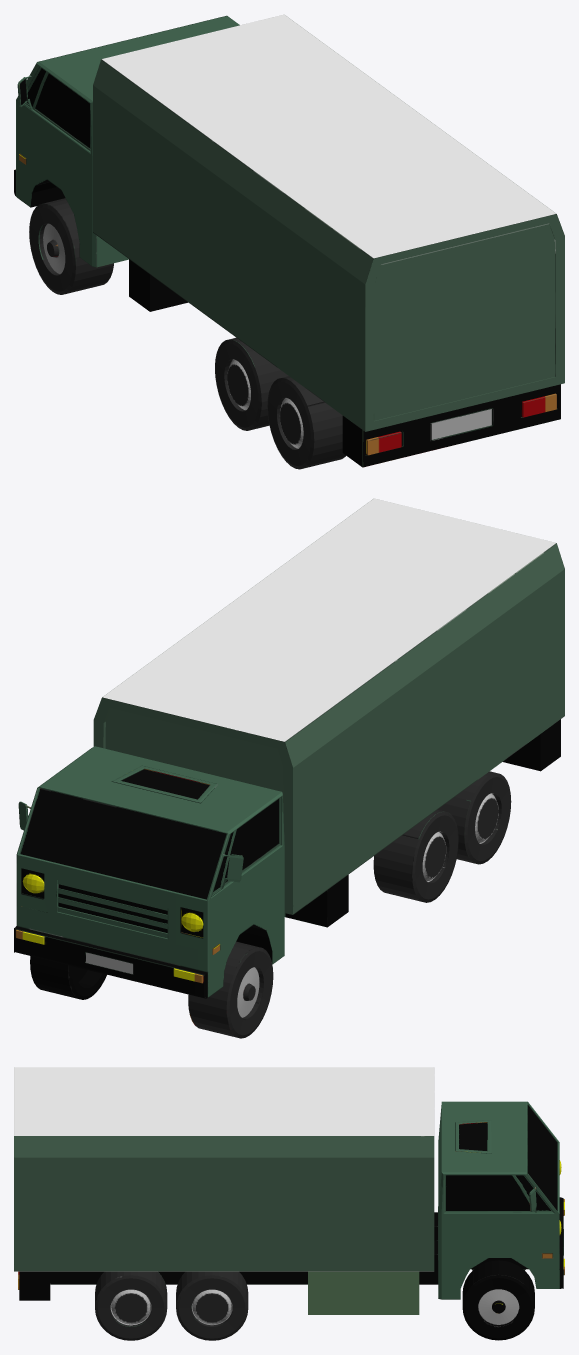
The model's file is Truck.glb.
3 renders of one model, top to bottom at view 1: azimuth 30°, elevation 25°; view 2: azimuth 150°, elevation 25°; view 3: azimuth 270°, elevation 25°, orthographic. The views are drawn at different scales.
Parts seen in each view (by area): view 1: truck; view 2: truck; view 3: truck.
Boxes of the visible parts, box(x1,y1,x2,y2) form: truck: box(14, 14, 564, 469); truck: box(14, 498, 564, 1038); truck: box(14, 1067, 564, 1340).
Size of the model in its own units: 2.97 by 3.29 by 8.13.
1 material, 1 textured.
